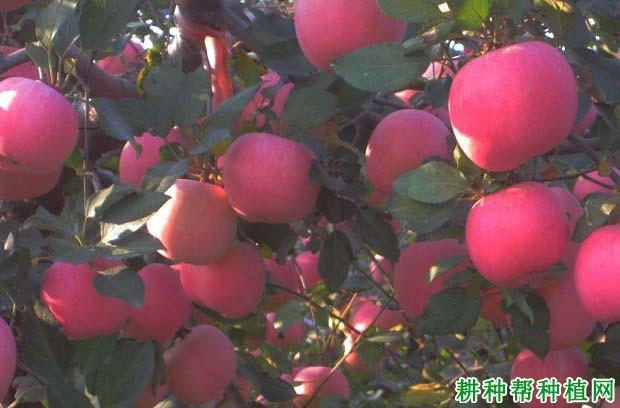apple: (448, 37, 578, 170), (463, 181, 579, 290), (1, 75, 79, 203), (217, 130, 320, 225), (39, 247, 136, 341), (366, 108, 454, 203), (296, 1, 407, 73), (147, 179, 235, 266), (177, 236, 265, 323), (162, 325, 241, 402), (573, 220, 620, 325)
